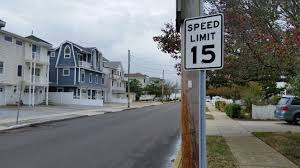speedLimit15: (182, 17, 224, 70)
